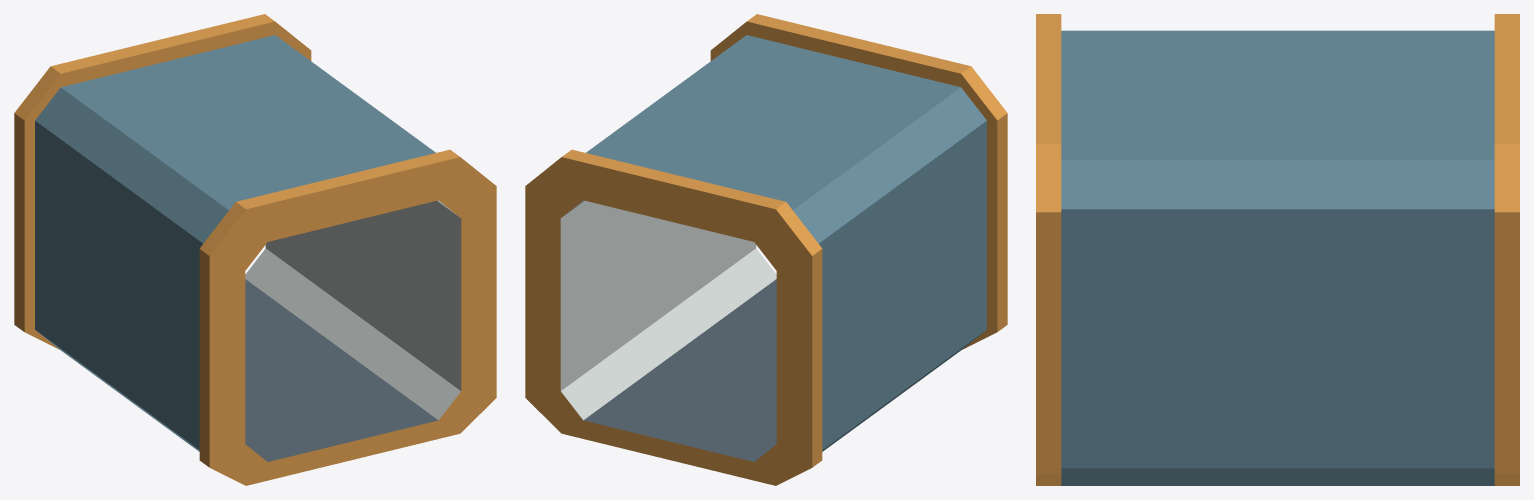
3 views of the same model, side by side, from view 1: azimuth 30°, elevation 25°; view 2: azimuth 150°, elevation 25°; view 3: azimuth 270°, elevation 25° (orthographic). The views are drawn at different scales.
Visible parts, largest first — view 1: ContinuousThickThroughCabin; view 2: ContinuousThickThroughCabin; view 3: ContinuousThickThroughCabin.
Boxes of the visible parts, x1,y1,x2,y2 form: ContinuousThickThroughCabin: [14, 14, 496, 485]; ContinuousThickThroughCabin: [525, 14, 1007, 485]; ContinuousThickThroughCabin: [1036, 14, 1519, 485].
Bounding box in the file's own units: 3.56 × 3.28 × 4.2.
